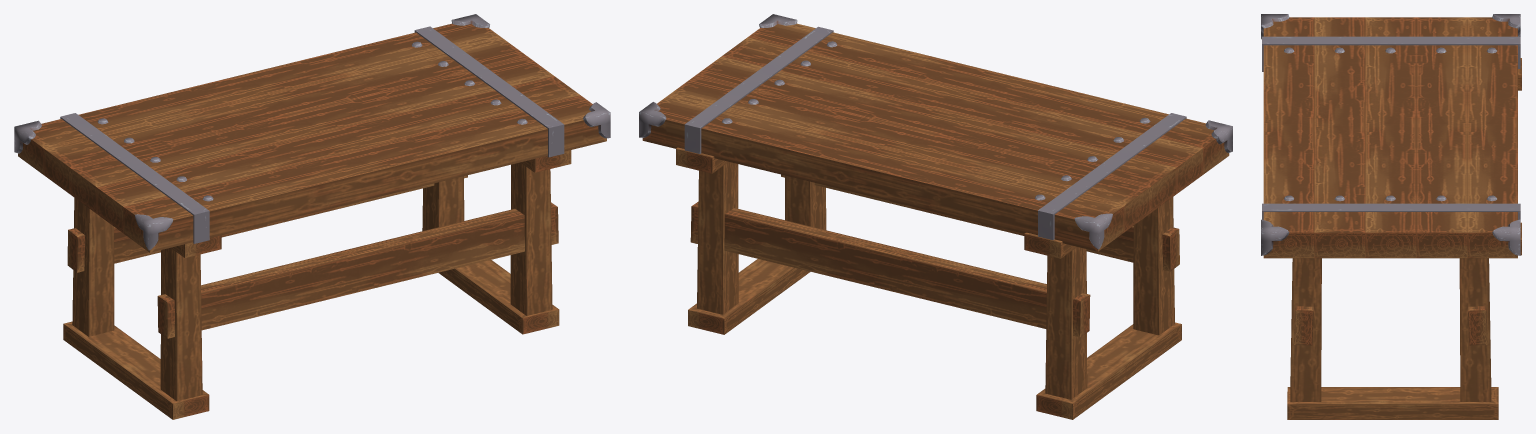
3 views of the same model, side by side, from view 1: azimuth 30°, elevation 25°; view 2: azimuth 150°, elevation 25°; view 3: azimuth 270°, elevation 25° (orthographic). The views are drawn at different scales.
Parts seen in each view (by area): view 1: 1baadcfcbf00e0b06154296be4bff518d0f1d751a7aae25922816476adf8; view 2: 1baadcfcbf00e0b06154296be4bff518d0f1d751a7aae25922816476adf8; view 3: 1baadcfcbf00e0b06154296be4bff518d0f1d751a7aae25922816476adf8.
Boxes of the visible parts, bbox=[...] form: 1baadcfcbf00e0b06154296be4bff518d0f1d751a7aae25922816476adf8: bbox=[14, 14, 610, 419]; 1baadcfcbf00e0b06154296be4bff518d0f1d751a7aae25922816476adf8: bbox=[639, 14, 1232, 419]; 1baadcfcbf00e0b06154296be4bff518d0f1d751a7aae25922816476adf8: bbox=[1261, 14, 1521, 419].
Bounding box in the file's own units: 2.02 × 0.8946 × 1.02.
2 materials, 2 textured.
